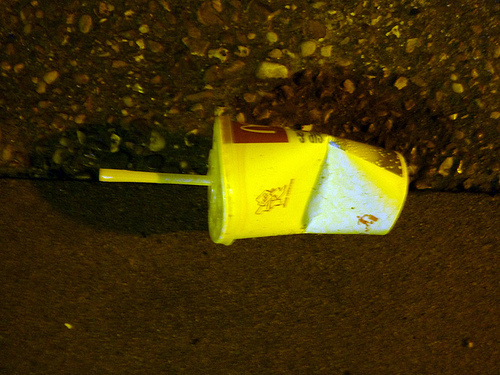litter: (94, 114, 408, 248)
